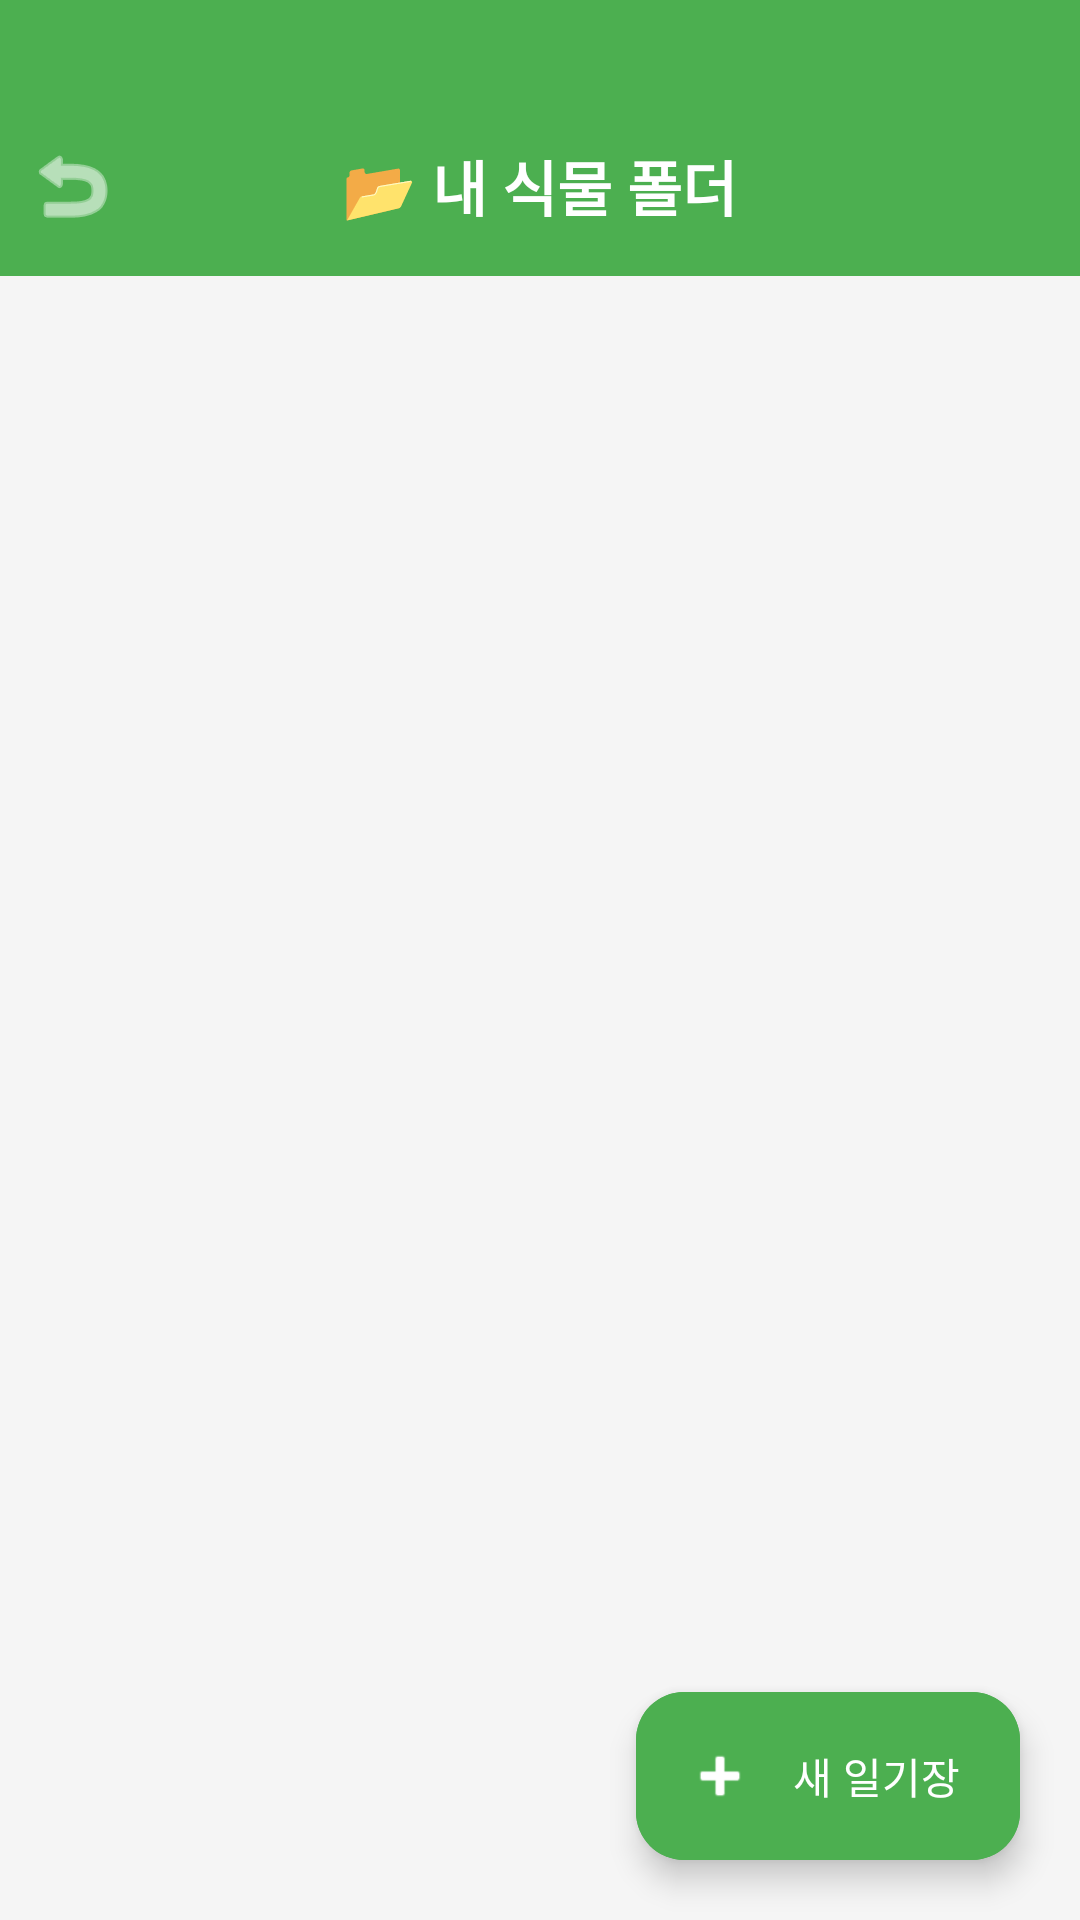

Locate icon controls on the screen. Image size 1080×1920, boxes as {"left": x1, "top": y1, "right": x2, "bottom": y2}.
revert: {"left": 39, "top": 155, "right": 108, "bottom": 218}
